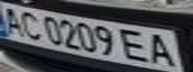0: (36, 12, 63, 46), (75, 20, 96, 53)
2: (57, 17, 81, 51)
9: (93, 24, 118, 57)
A: (142, 30, 184, 69), (0, 3, 27, 36)
C: (15, 9, 45, 40)
E: (118, 27, 154, 63)
